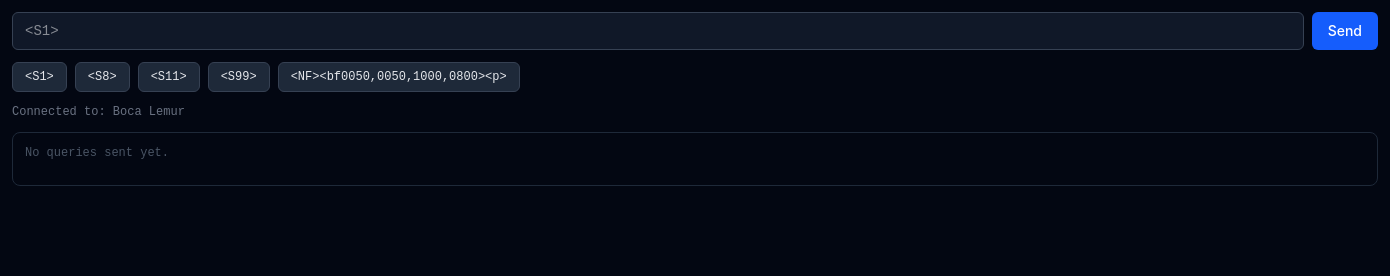
Test: PrinterConsole › successful response appears in log with hex and text
Click the button "<S1>": (39, 77) [12, 62, 67, 92]
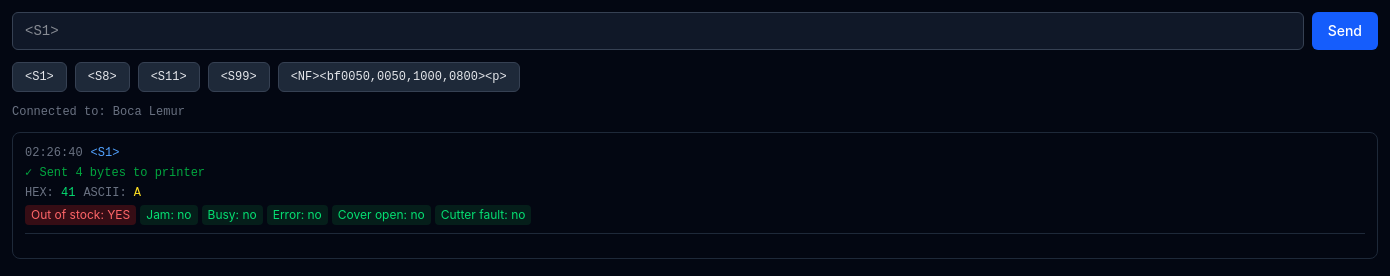
Check: the text "41" is shown, box [61, 186, 75, 200]
Check: the text "A" is shown, box [134, 186, 141, 200]
